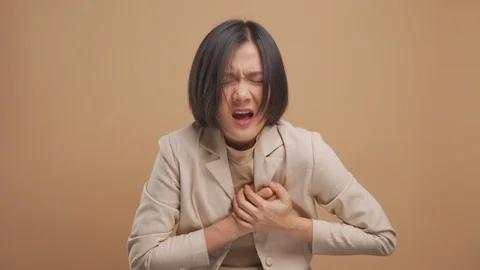pain: (205, 69, 272, 94)
